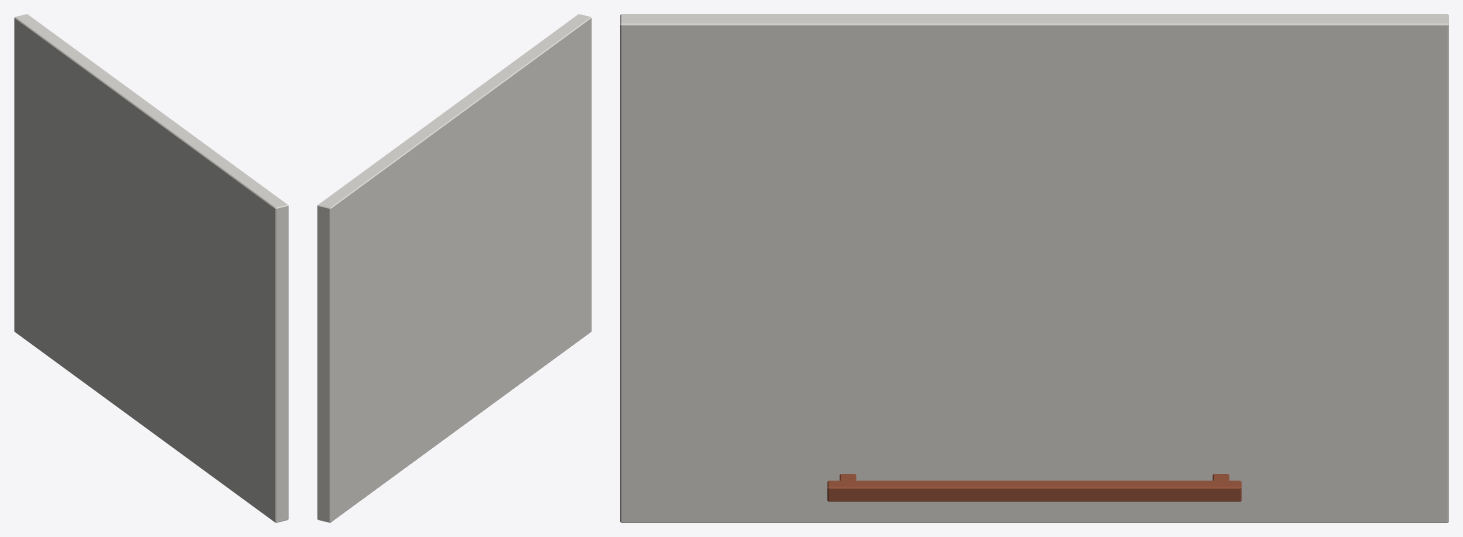
The model's file is l_kitchen_two_long_legs_rw3_flap.glb.
The picture shows the model from 3 angles, left to right: view 1: azimuth 30°, elevation 25°; view 2: azimuth 150°, elevation 25°; view 3: azimuth 270°, elevation 25°; orthographic projection. The views are drawn at different scales.
Parts seen in each view (by area): view 1: l_kitchen_two_long_legs_rw3_flap; view 2: l_kitchen_two_long_legs_rw3_flap; view 3: l_kitchen_two_long_legs_rw3_flap.
Boxes of the visible parts, x1,y1,x2,y2 form: l_kitchen_two_long_legs_rw3_flap: (14, 14, 288, 522); l_kitchen_two_long_legs_rw3_flap: (317, 14, 591, 522); l_kitchen_two_long_legs_rw3_flap: (620, 14, 1448, 522).
Size of the model in its own units: 0.044 by 0.397 by 0.597.
